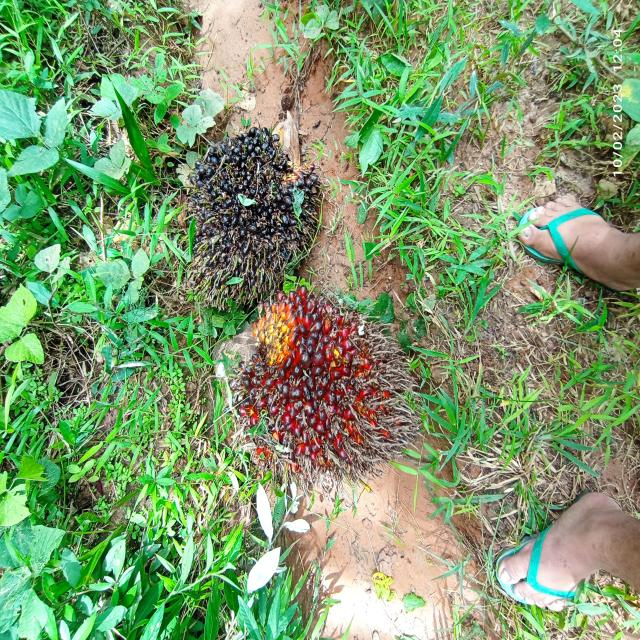fraksi 00: (149, 94, 348, 336)
fraksi 1: (218, 257, 436, 538)
